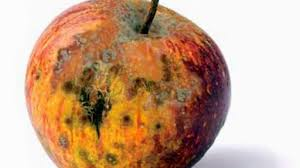damaged_apple: (24, 1, 227, 166)
